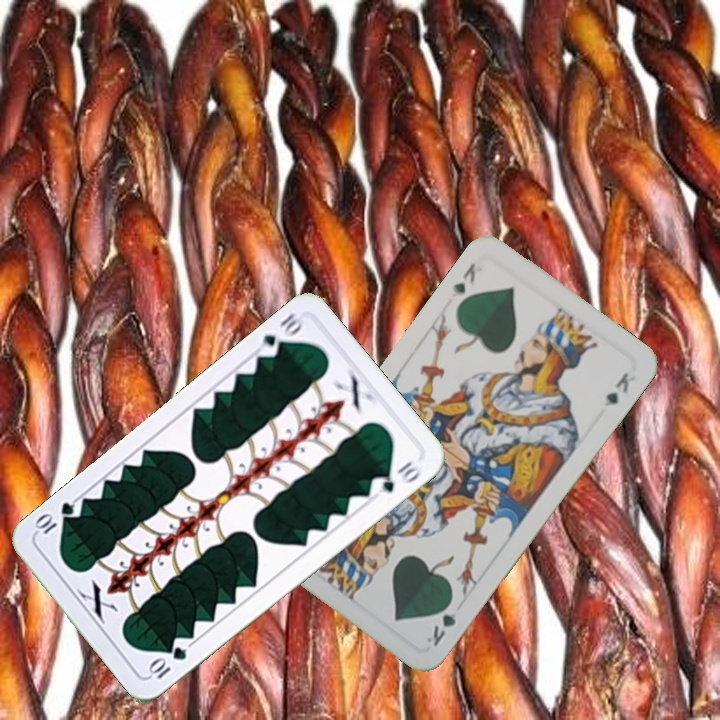G10: (258, 308, 307, 361), (144, 642, 190, 682)
GK: (422, 594, 459, 650), (448, 259, 479, 297)
